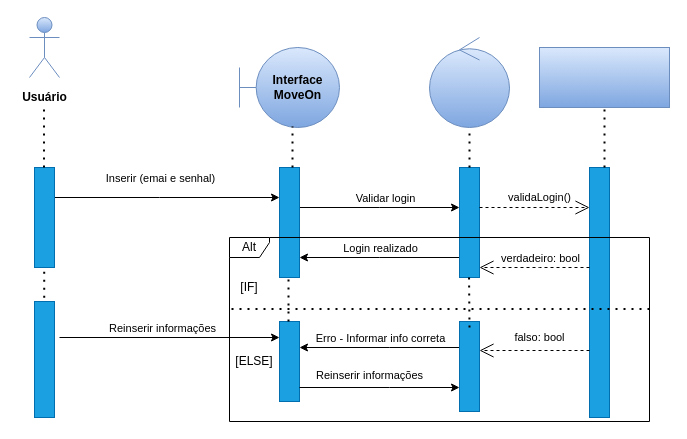
This 687x439 diagram has some shape labels left out. The centre of each missing label's shape, as x and y in pixels:
Controler MoveOn: (469,82)
Sistema MoveOn: (604,77)
